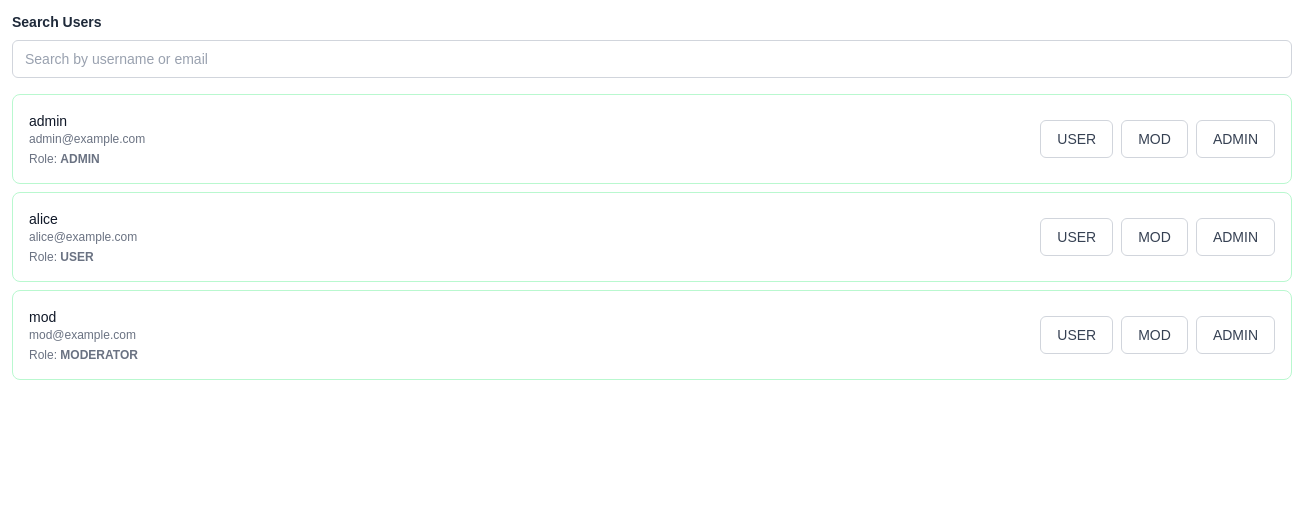
it: UserManagementTab › can cancel role change from confirm dialog
Step 1. Click the button with test id "change-role-moderator-2" → (1155, 237), box [1121,218,1188,256]
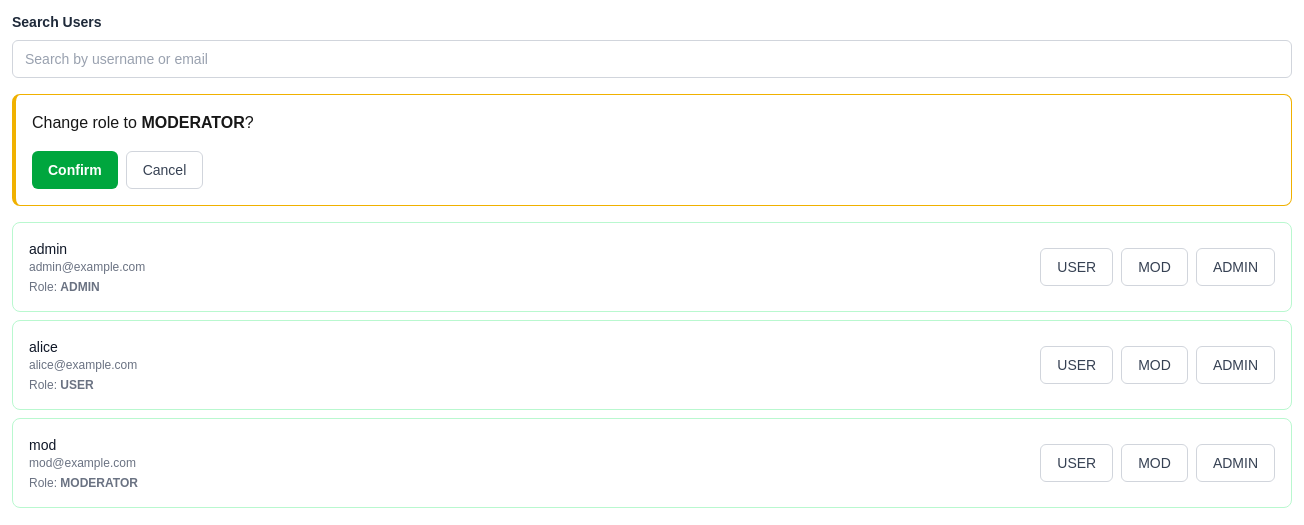
Expected: the element with test id "role-confirm-dialog" is shown, [12,94,1292,206]
Step 2. Click the button with test id "cancel-confirm-button" → (164, 170), box [126,151,203,189]
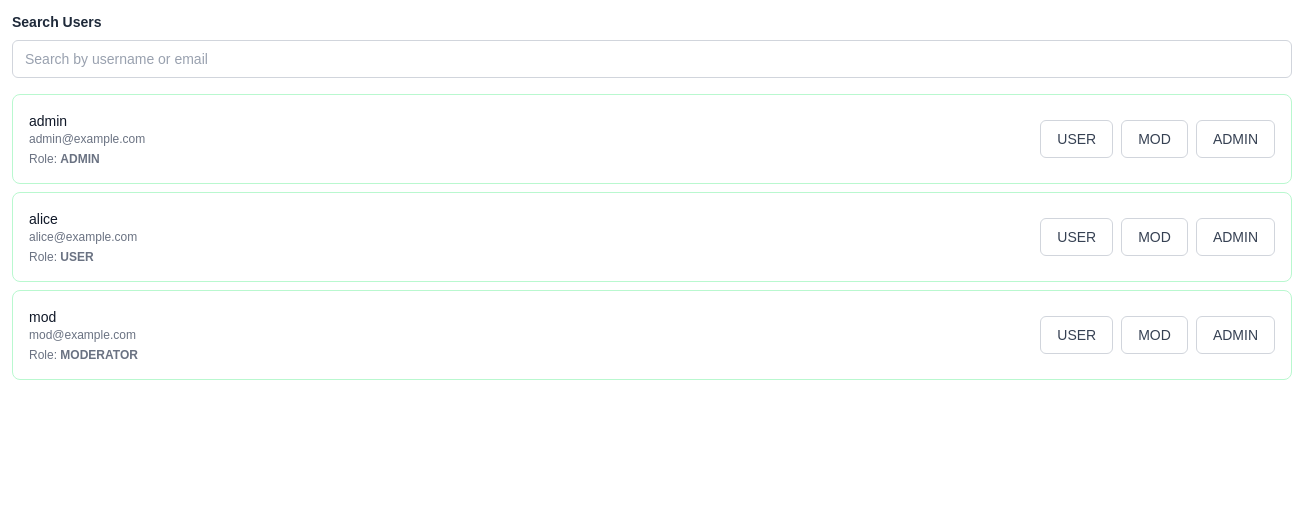
Expected: the element with test id "role-confirm-dialog" is gone
